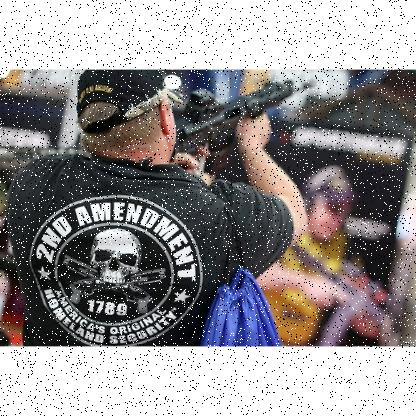gun: (166, 76, 314, 168), (290, 246, 402, 346)
